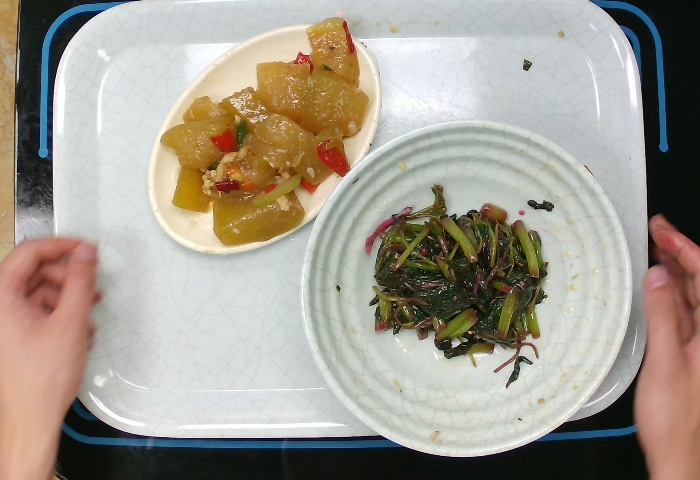JYsf-Da_Tang_Wan: (297, 118, 635, 460)
JYsf-Tuo_Yuan_Wan: (143, 21, 382, 257)
